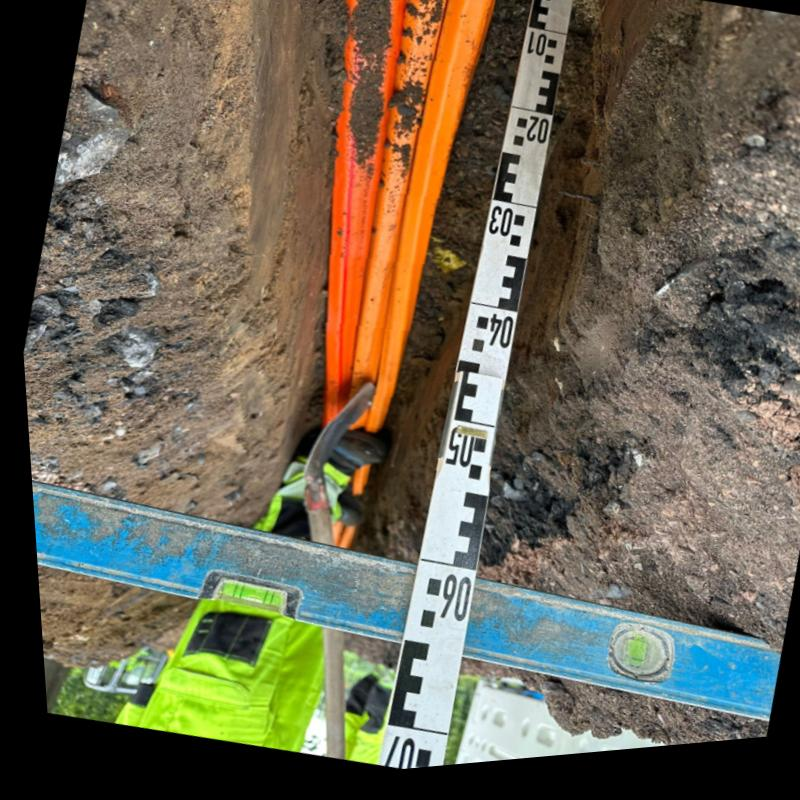Orang-Speednetrohrchen: (319, 0, 496, 431)
